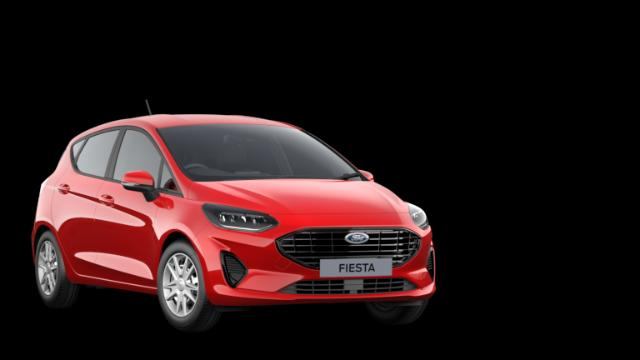ford: (31, 100, 437, 334)
